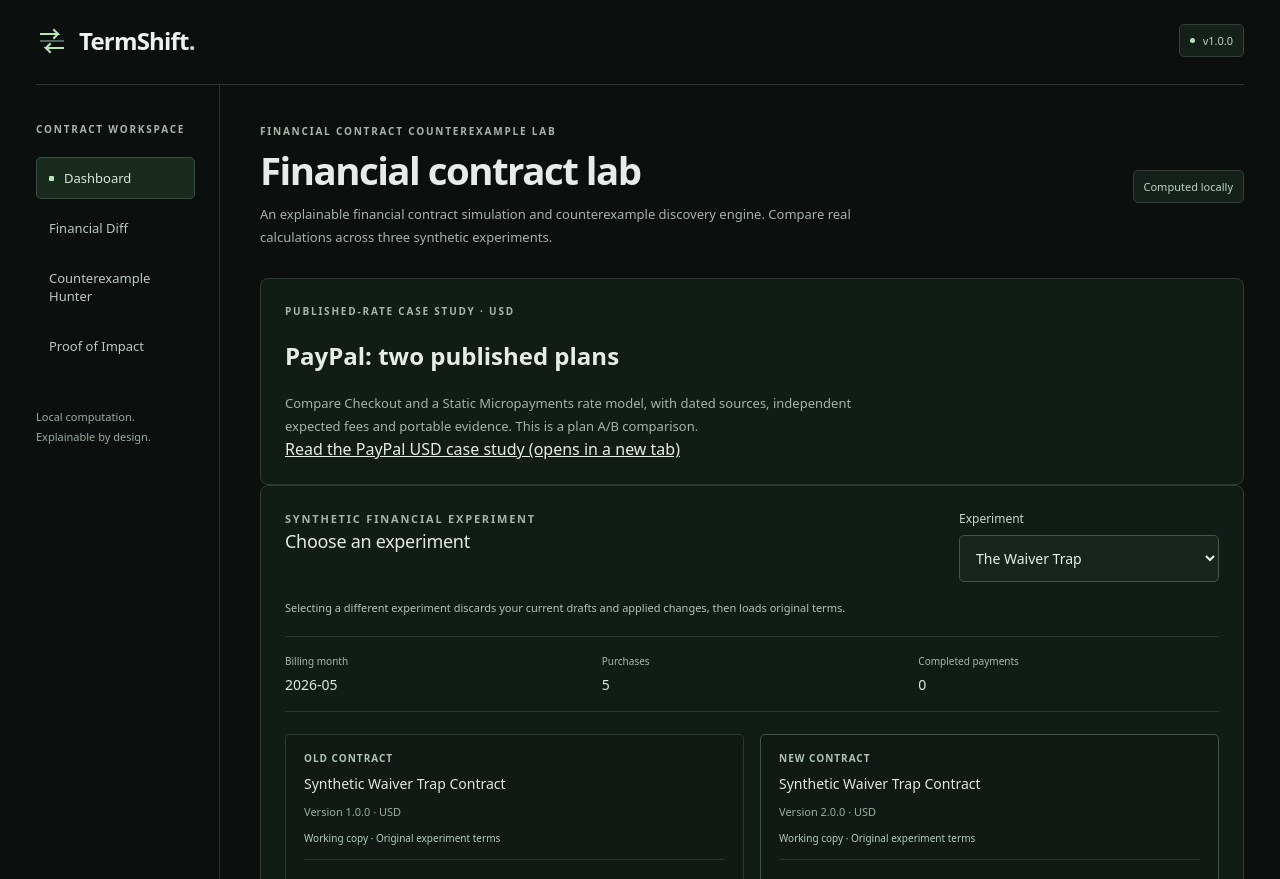
it: Interactive financial Dashboard › updates every summary cost when selecting The Microtransaction Penalty
Select "The Microtransaction Penalty" in the dropdown labelled "Experiment" at (1089, 559), box [959,536,1219,582]
(page scrolled)
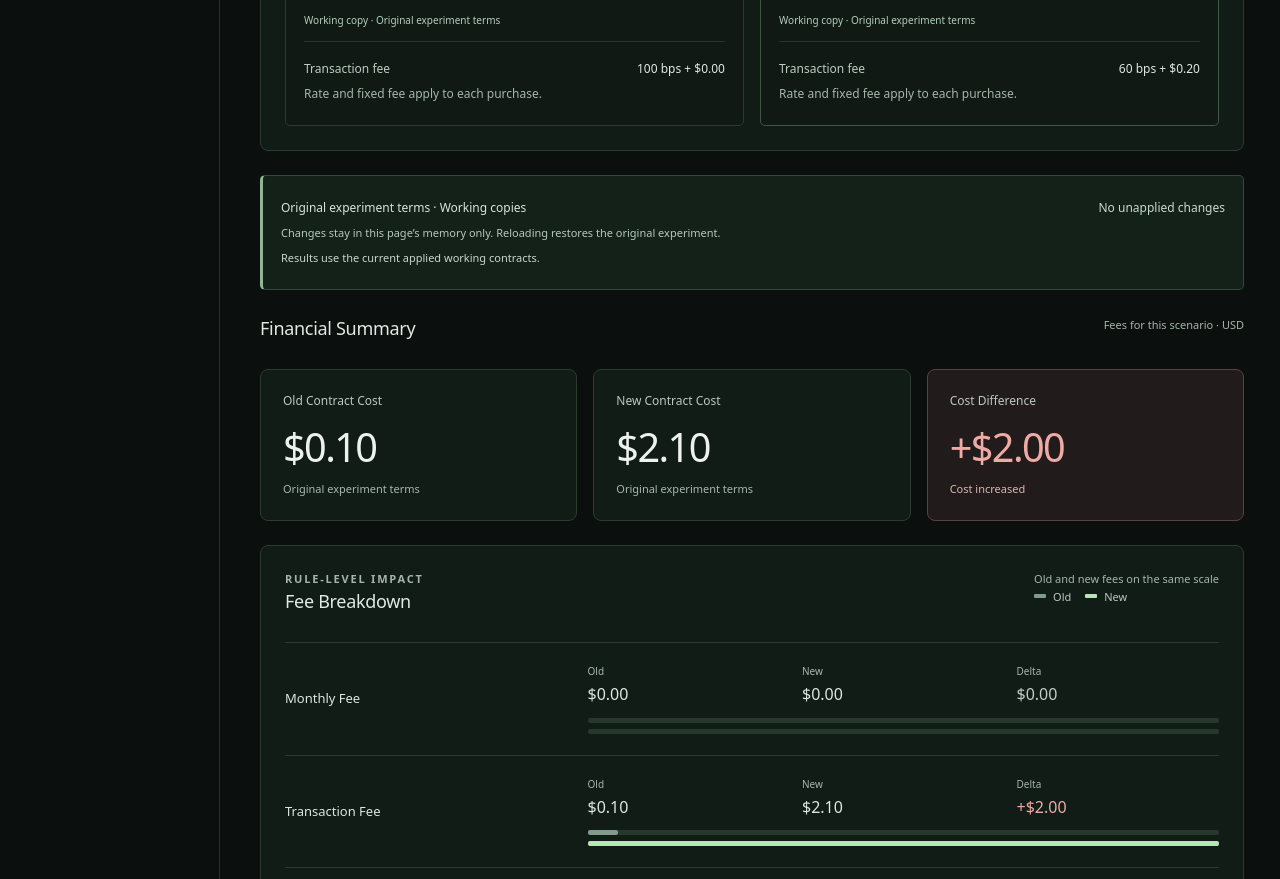
Now the text "$0.10" below "Old Contract Cost" is shown, box [283,420,376,474]
Now the text "$2.10" below "New Contract Cost" is shown, box [616,420,710,474]
Now the text "+$2.00" is shown, box [950,420,1064,474]
